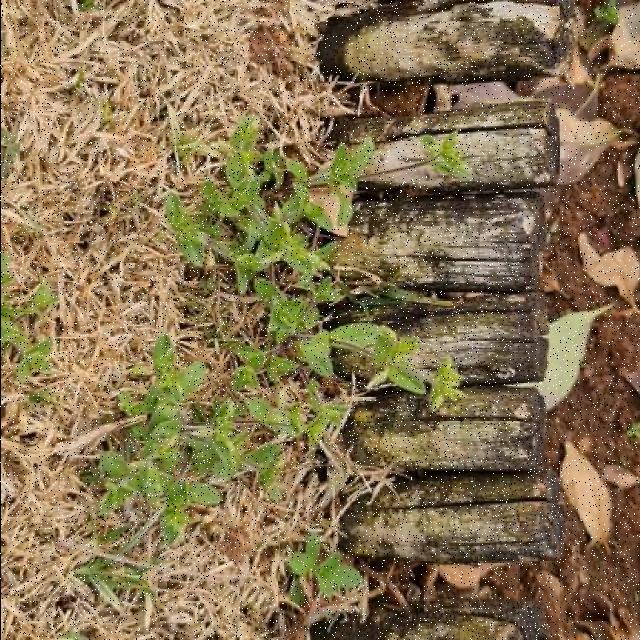weed: (96, 118, 458, 543), (286, 535, 360, 606)
